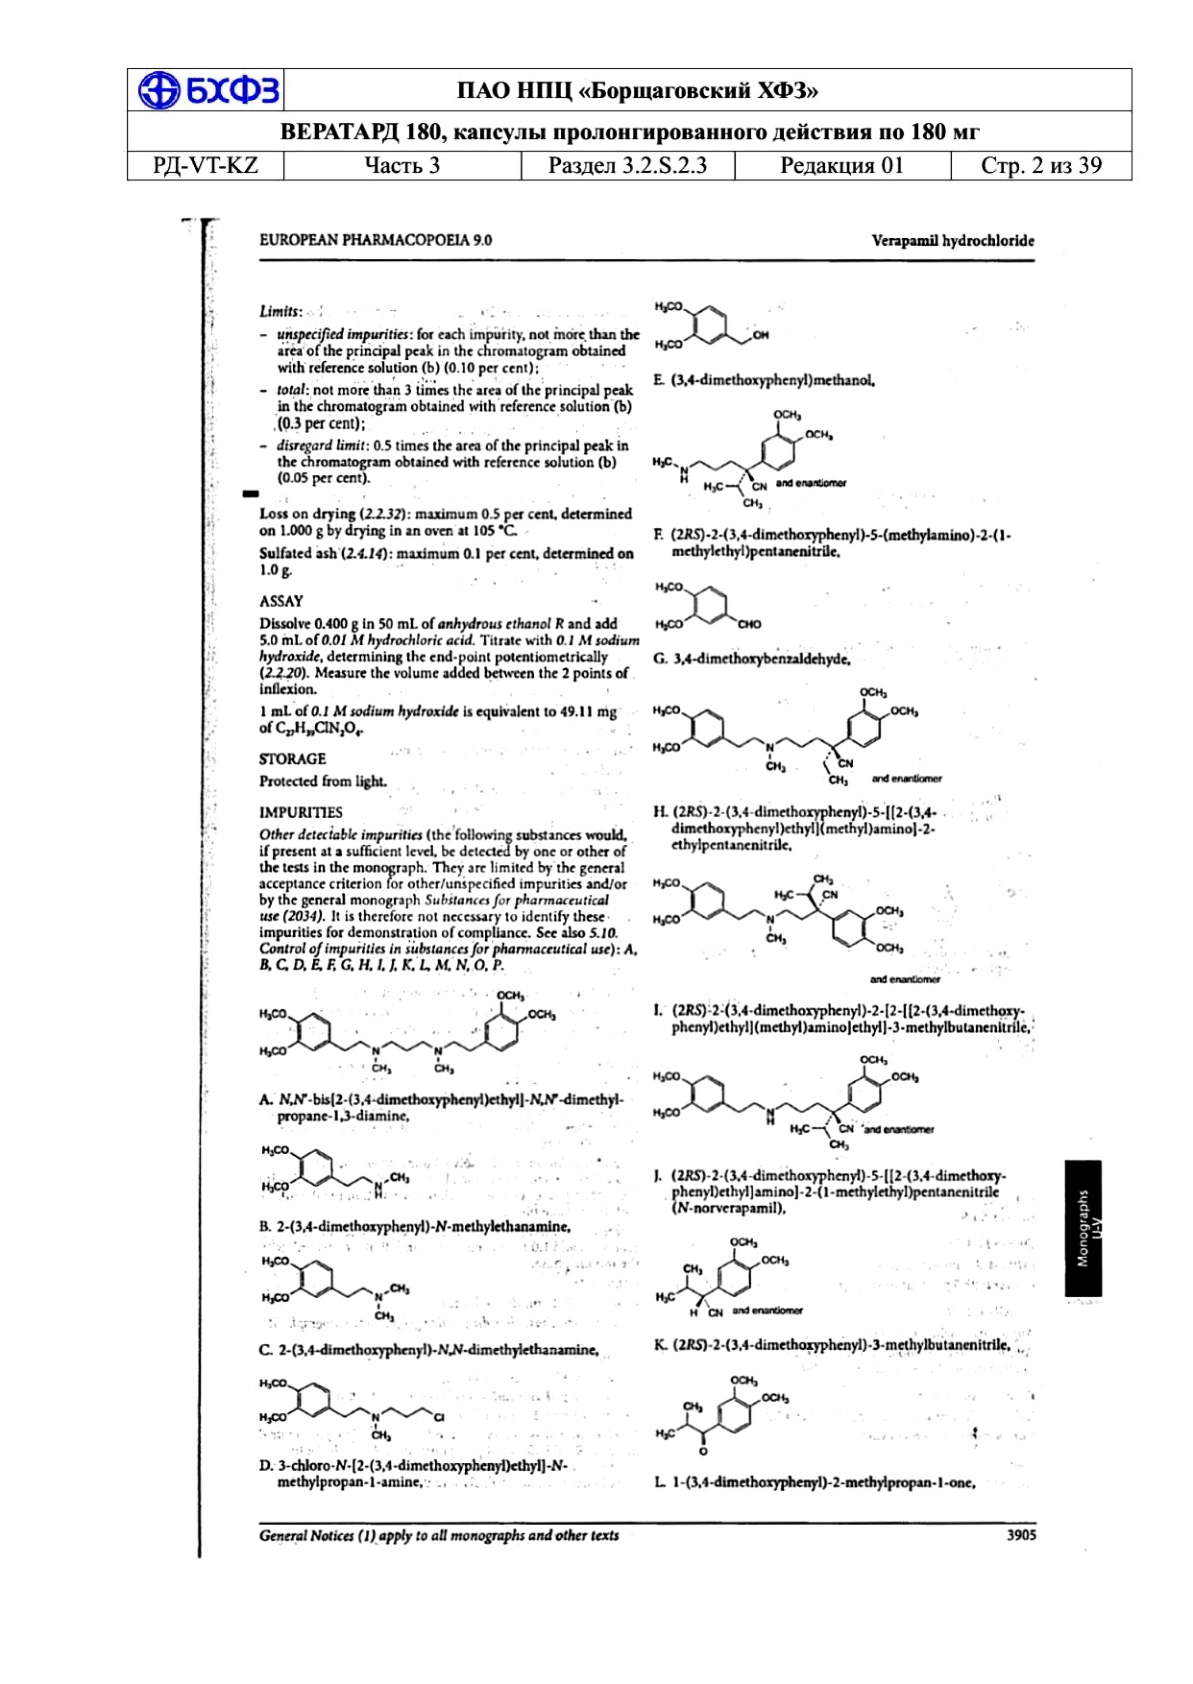merged_cells: (125, 66, 1134, 181)
